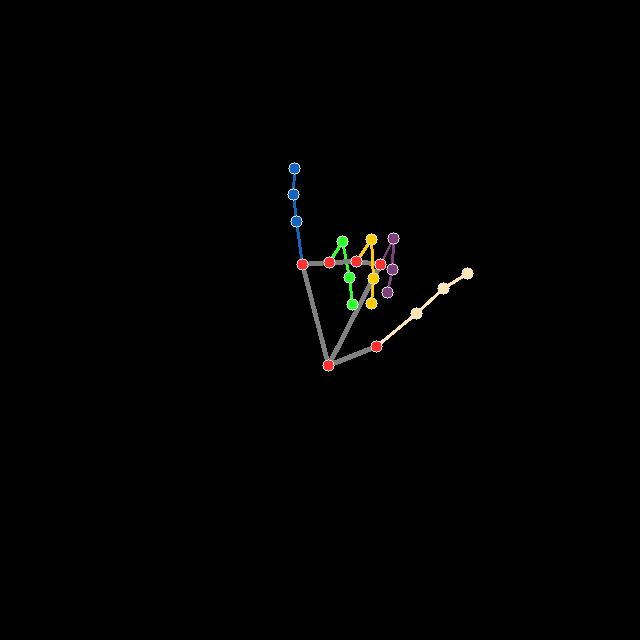skr: (284, 160, 474, 372)
